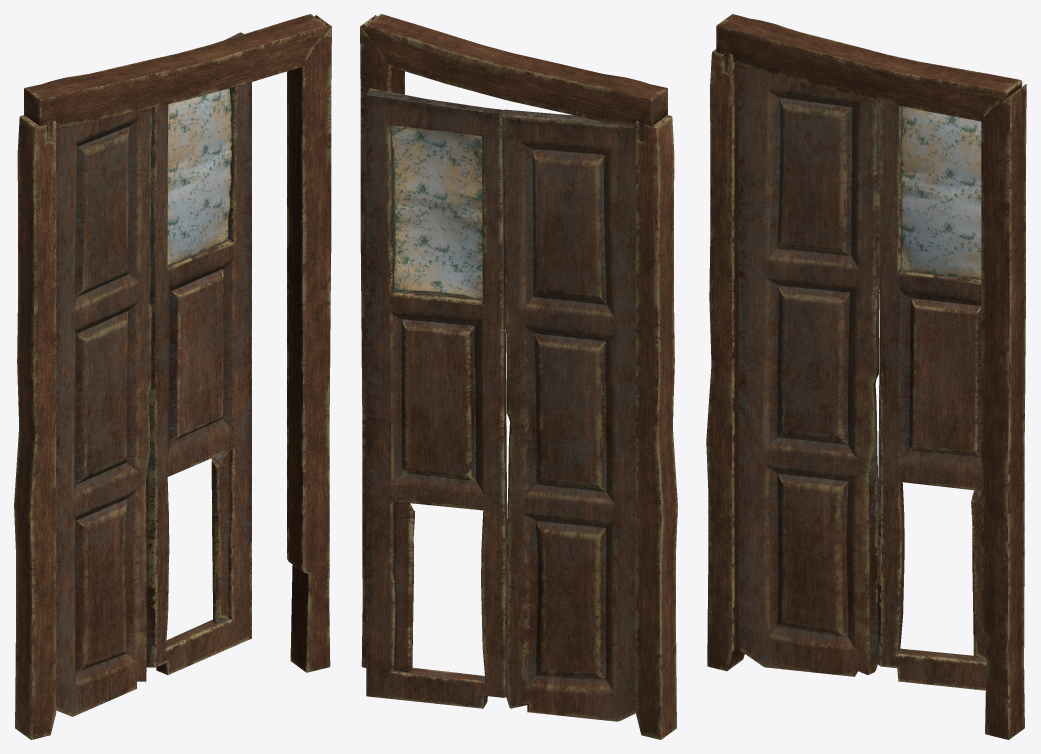
The model's file is Door_VAR01.obj.
3 renders of one model, left to right at view 1: azimuth 30°, elevation 25°; view 2: azimuth 150°, elevation 25°; view 3: azimuth 330°, elevation 25°, orthographic.
Visible parts, largest first — view 1: Puerta_Tela, Puerta_Marco; view 2: Puerta_Tela, Puerta_Marco; view 3: Puerta_Tela, Puerta_Marco.
Boxes of the visible parts, x1,y1,x2,y2 form: Puerta_Tela: (56, 32, 251, 716); Puerta_Marco: (14, 14, 331, 739); Puerta_Tela: (366, 88, 635, 721); Puerta_Marco: (360, 14, 677, 739); Puerta_Tela: (738, 64, 986, 690); Puerta_Marco: (706, 14, 1026, 739).
Size of the model in its own units: 1.07 by 2.18 by 0.3131.
4 materials, 4 textured.
